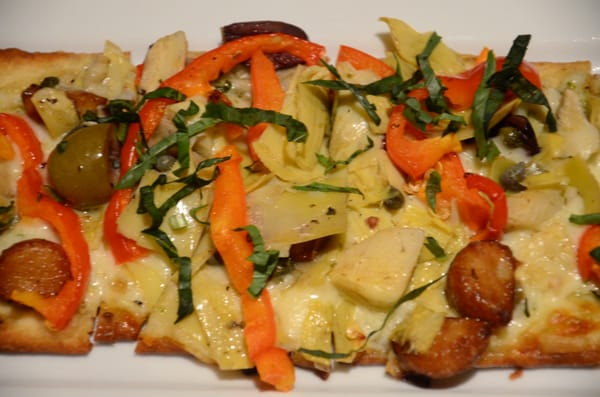pizza: (159, 35, 315, 99), (209, 149, 257, 296), (249, 50, 285, 111), (336, 44, 395, 80)
sandwich: (3, 14, 600, 391)
